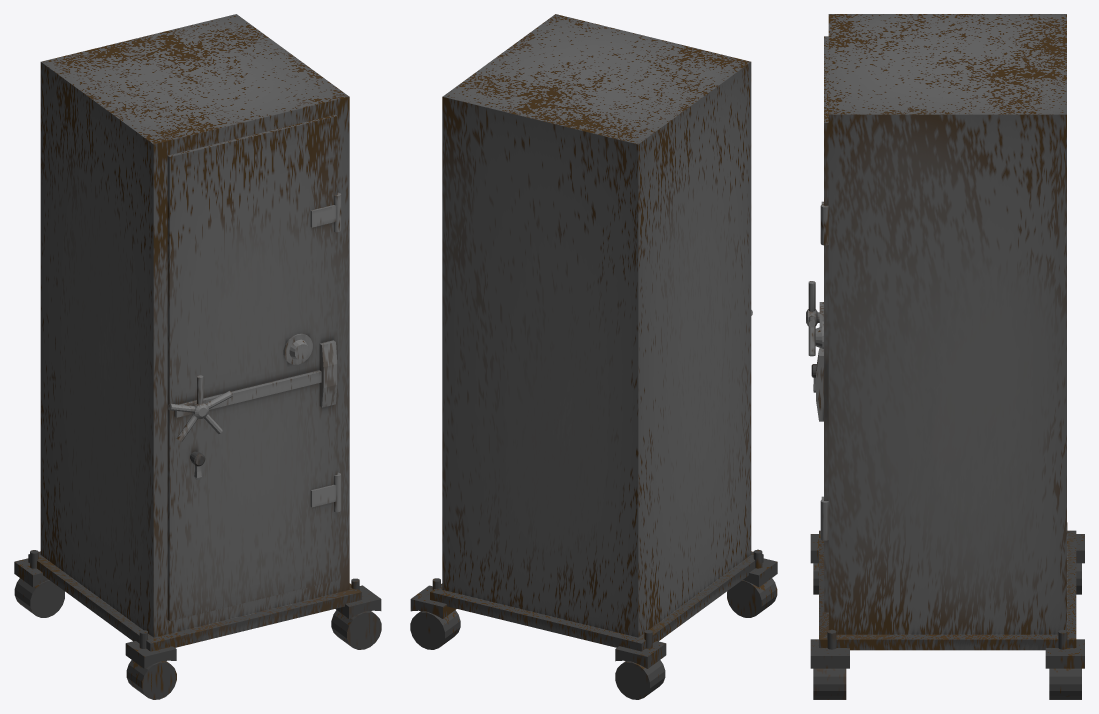
File: Vault_Goblin.fbx
3 renders of one model, left to right at view 1: azimuth 30°, elevation 25°; view 2: azimuth 150°, elevation 25°; view 3: azimuth 270°, elevation 25°, orthographic. The views are drawn at different scales.
Visible parts, largest first — view 1: MoneyLocker; view 2: MoneyLocker; view 3: MoneyLocker.
Part boxes in pixels (left/top/right/bottom): MoneyLocker: left=14, top=14, right=381, bottom=699; MoneyLocker: left=410, top=14, right=777, bottom=699; MoneyLocker: left=806, top=14, right=1084, bottom=699.
Bounding box in the file's own units: 386 × 846 × 369.
1 material, 1 textured.
